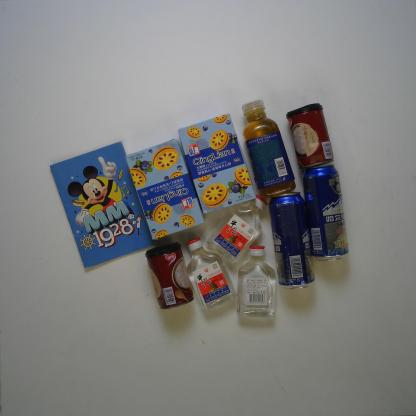Alcohol: (299, 161, 352, 264), (267, 189, 317, 293), (206, 193, 270, 267), (184, 235, 239, 312), (234, 242, 278, 320)
Canned Food: (142, 240, 197, 312), (284, 101, 336, 172)
Dessert: (124, 136, 210, 245), (174, 111, 259, 216)
Drink: (234, 97, 298, 200)
Stationery: (46, 137, 160, 272)
